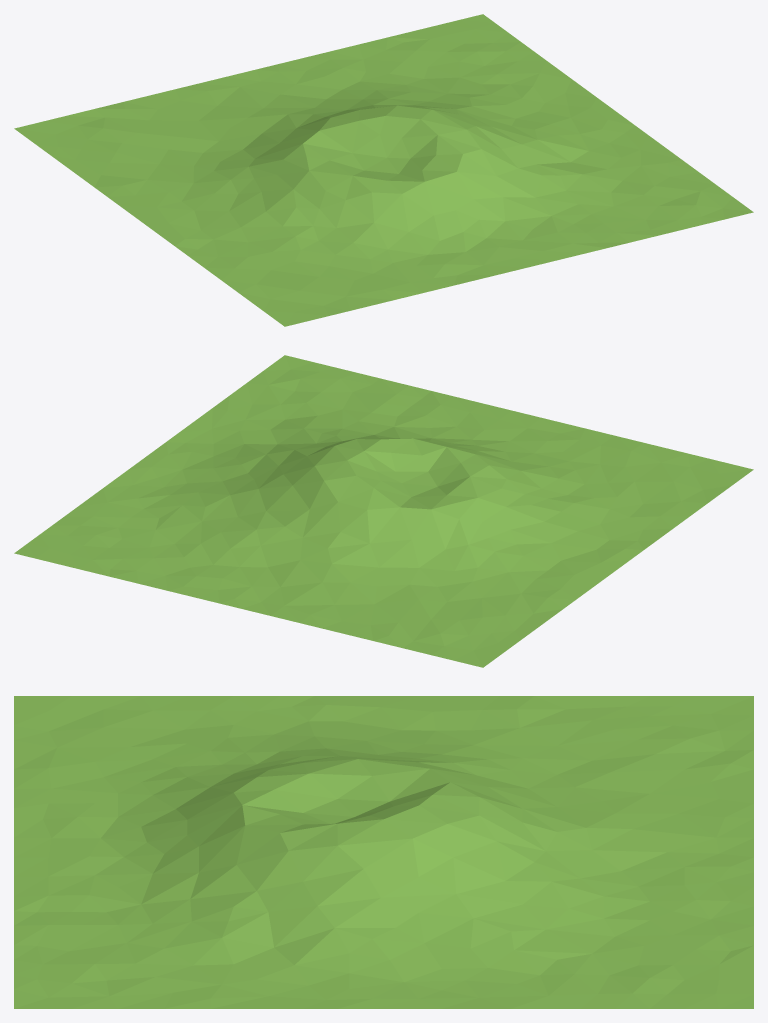
File: MT_Terrain_M_a_16.fbx
3 views of the same model, one above another, from view 1: azimuth 30°, elevation 25°; view 2: azimuth 150°, elevation 25°; view 3: azimuth 270°, elevation 25° (orthographic). The views are drawn at different scales.
Parts seen in each view (by area): view 1: MT_Terrain_M_a_16; view 2: MT_Terrain_M_a_16; view 3: MT_Terrain_M_a_16.
Part boxes in pixels (x1,y1,x2,y2): MT_Terrain_M_a_16: (14,14,753,326); MT_Terrain_M_a_16: (14,355,753,667); MT_Terrain_M_a_16: (14,696,753,1008).
Size of the model in its own units: 5000 by 438 by 5000.
